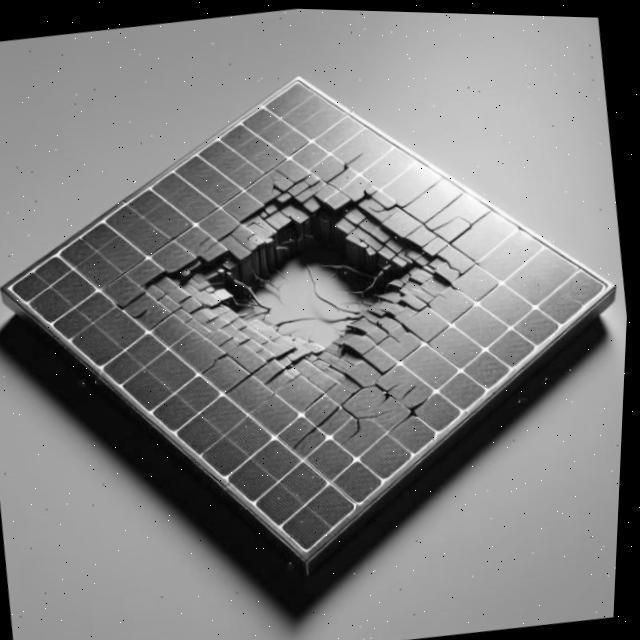Anomaly Solar Panel: (12, 7, 613, 582)
Structural Damage: (140, 121, 488, 446)
